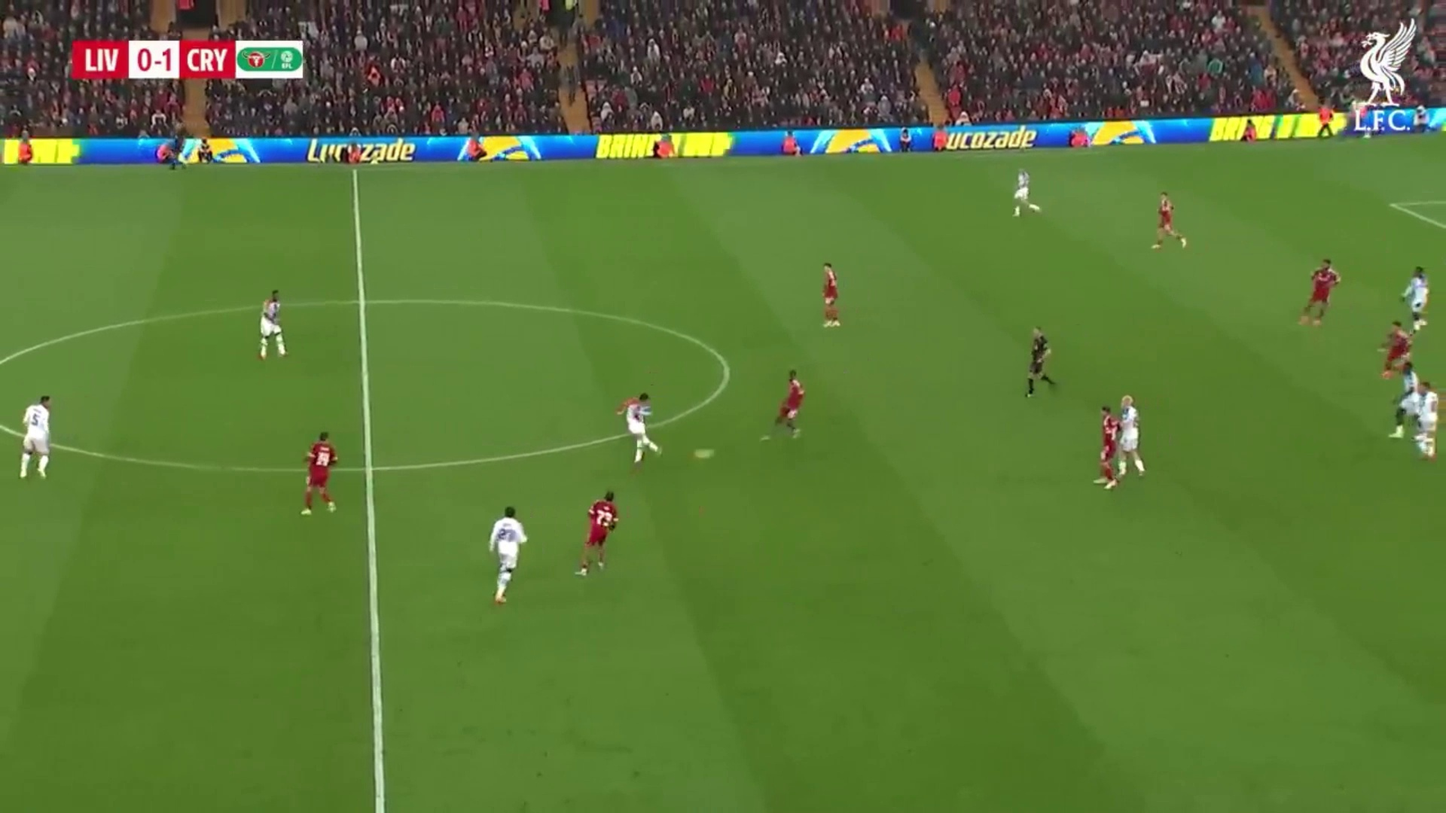player: (488, 506, 528, 608), (1100, 393, 1145, 483), (1396, 373, 1441, 460), (575, 493, 619, 577), (17, 395, 53, 482), (300, 435, 338, 517), (620, 390, 659, 468), (1298, 259, 1340, 329), (1097, 408, 1128, 489), (1151, 191, 1189, 250), (257, 290, 288, 361), (1025, 327, 1055, 399), (775, 371, 807, 436), (1119, 394, 1142, 478), (1380, 323, 1413, 377), (1404, 264, 1428, 329), (820, 263, 842, 329), (1011, 170, 1038, 218)
